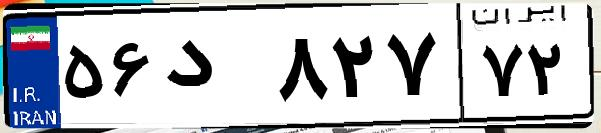2: (330, 28, 385, 110), (525, 38, 570, 115)
5: (57, 26, 110, 100)
6: (110, 28, 158, 98)
7: (385, 28, 445, 110), (475, 38, 525, 113)
8: (270, 28, 330, 110)
د: (158, 20, 270, 120)
